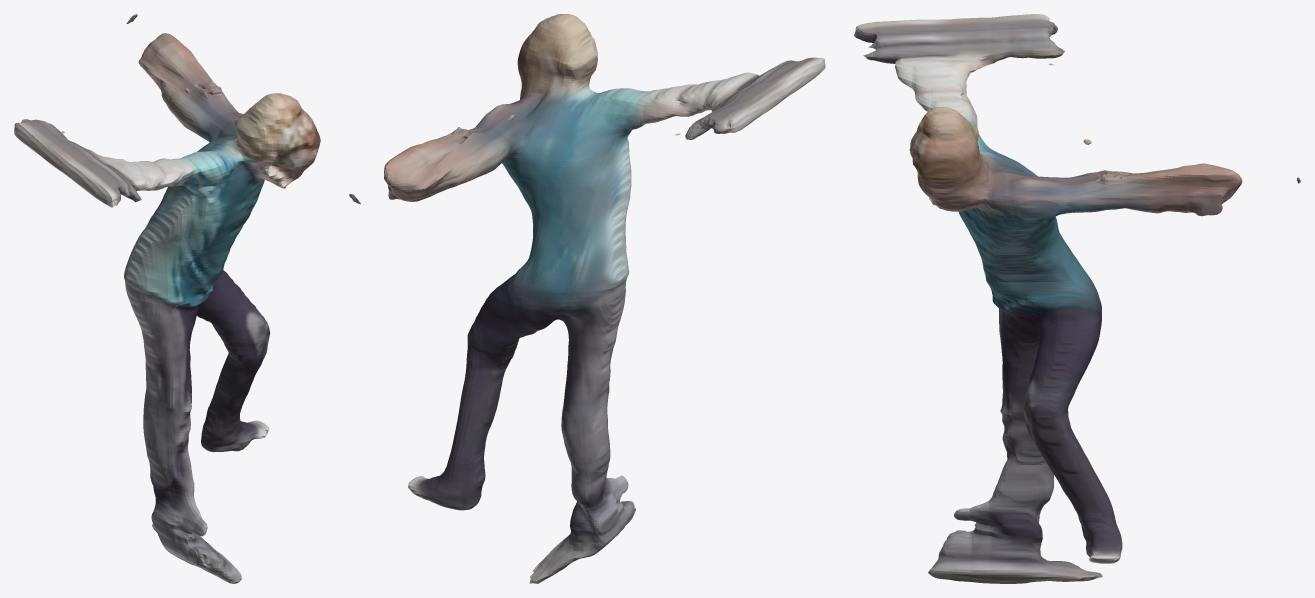
The model's file is 0028_tex.glb.
The picture shows the model from 3 angles, left to right: view 1: azimuth 30°, elevation 25°; view 2: azimuth 150°, elevation 25°; view 3: azimuth 270°, elevation 25°; orthographic projection. The views are drawn at different scales.
Visible parts, largest first — view 1: 0028_tex.obj; view 2: 0028_tex.obj; view 3: 0028_tex.obj.
Part boxes in pixels (bbox=[...]): 0028_tex.obj: bbox=[14, 14, 320, 583]; 0028_tex.obj: bbox=[349, 14, 825, 583]; 0028_tex.obj: bbox=[854, 14, 1300, 583].
Size of the model in its own units: 0.5428 by 0.8821 by 0.7221.
